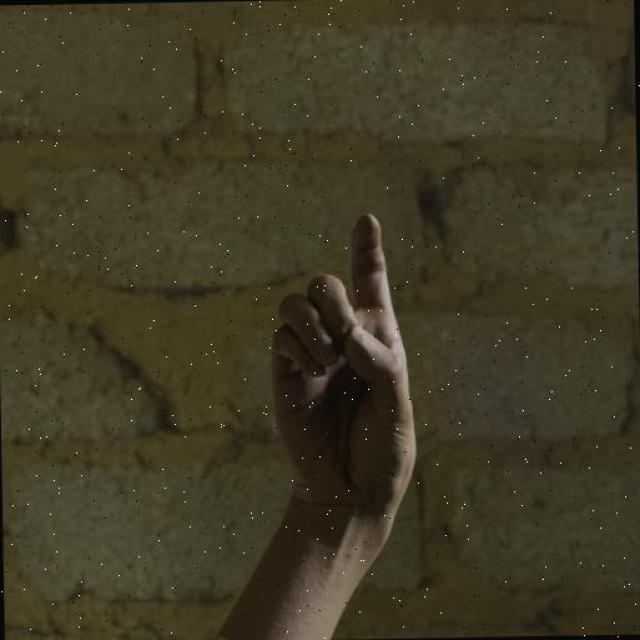X: (260, 211, 422, 518)
